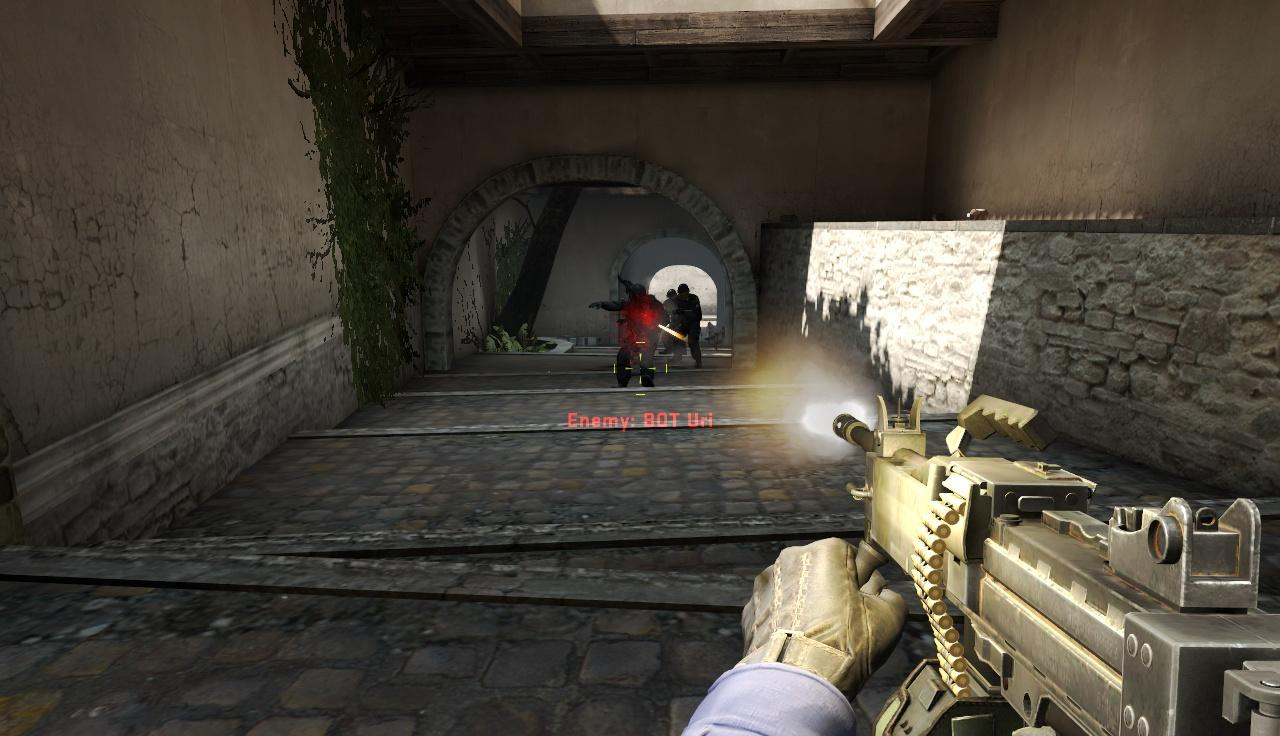ct: (674, 285, 705, 357)
rifle: (802, 390, 1280, 736)
